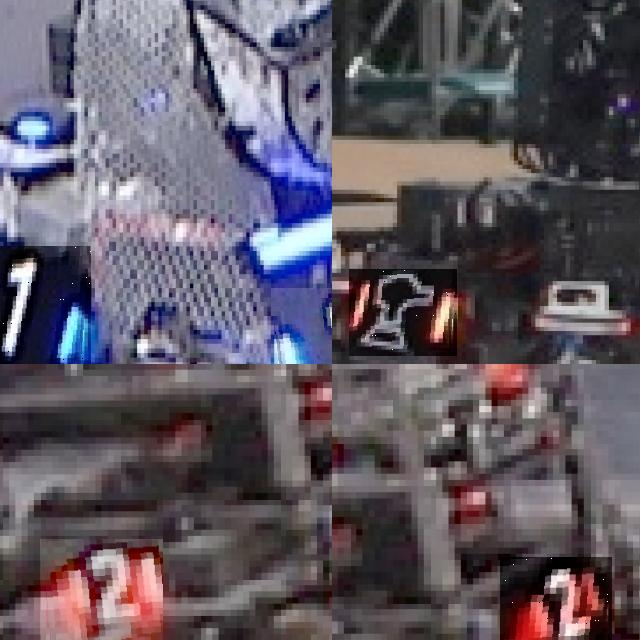B1: (0, 246, 91, 364), (271, 288, 332, 364)
R2: (40, 539, 163, 640), (500, 556, 611, 640)
Rs: (350, 269, 458, 356)
